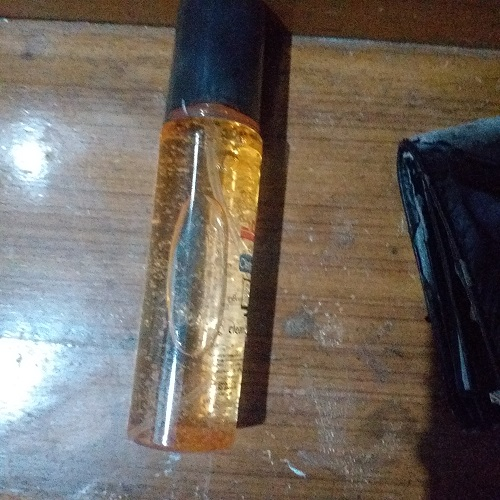spray: (118, 1, 276, 468)
